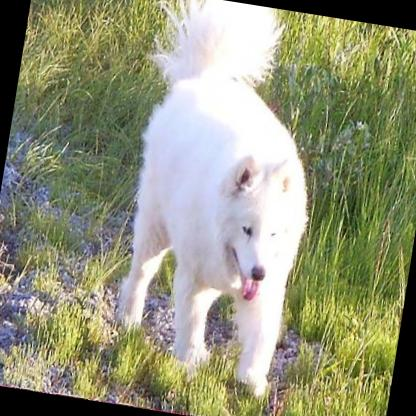Samoyed: (95, 0, 341, 406)
